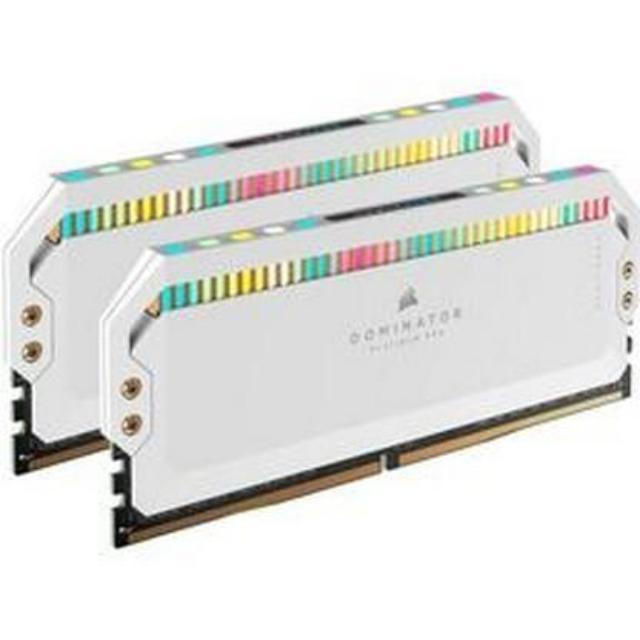RAM: (0, 87, 640, 558)
